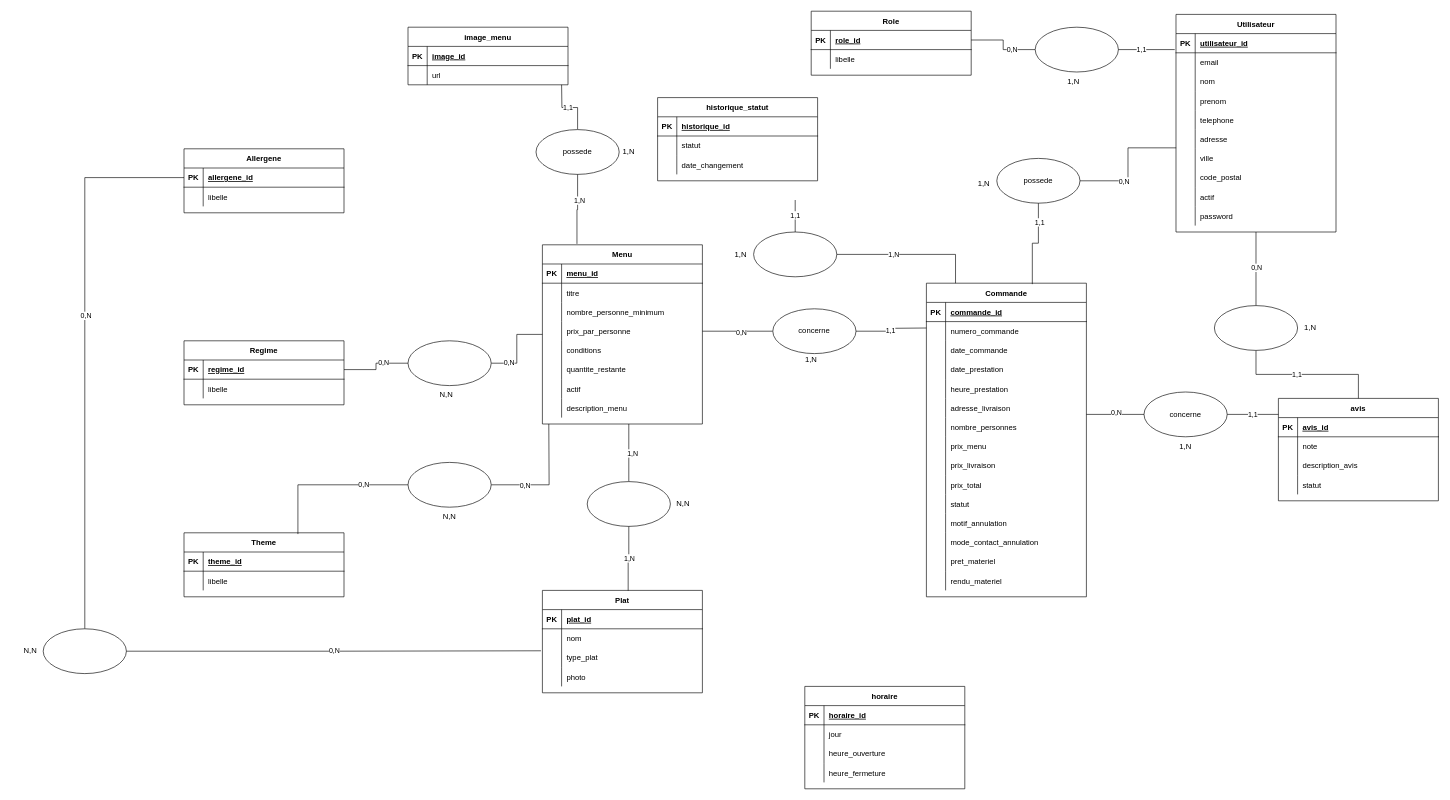
Image size: 1450x800. Some labels were removed from this diagram. Here are the shapes that lost their labels. From the top down, the centre of each, then its label:
At pixel 1076 49: "combien".
At pixel 795 254: "genere".
At pixel 1256 327: "ecrit".
At pixel 449 363: "respecte".
At pixel 449 484: "propose".
At pixel 628 503: "comprend".
At pixel 84 651: "contient".
